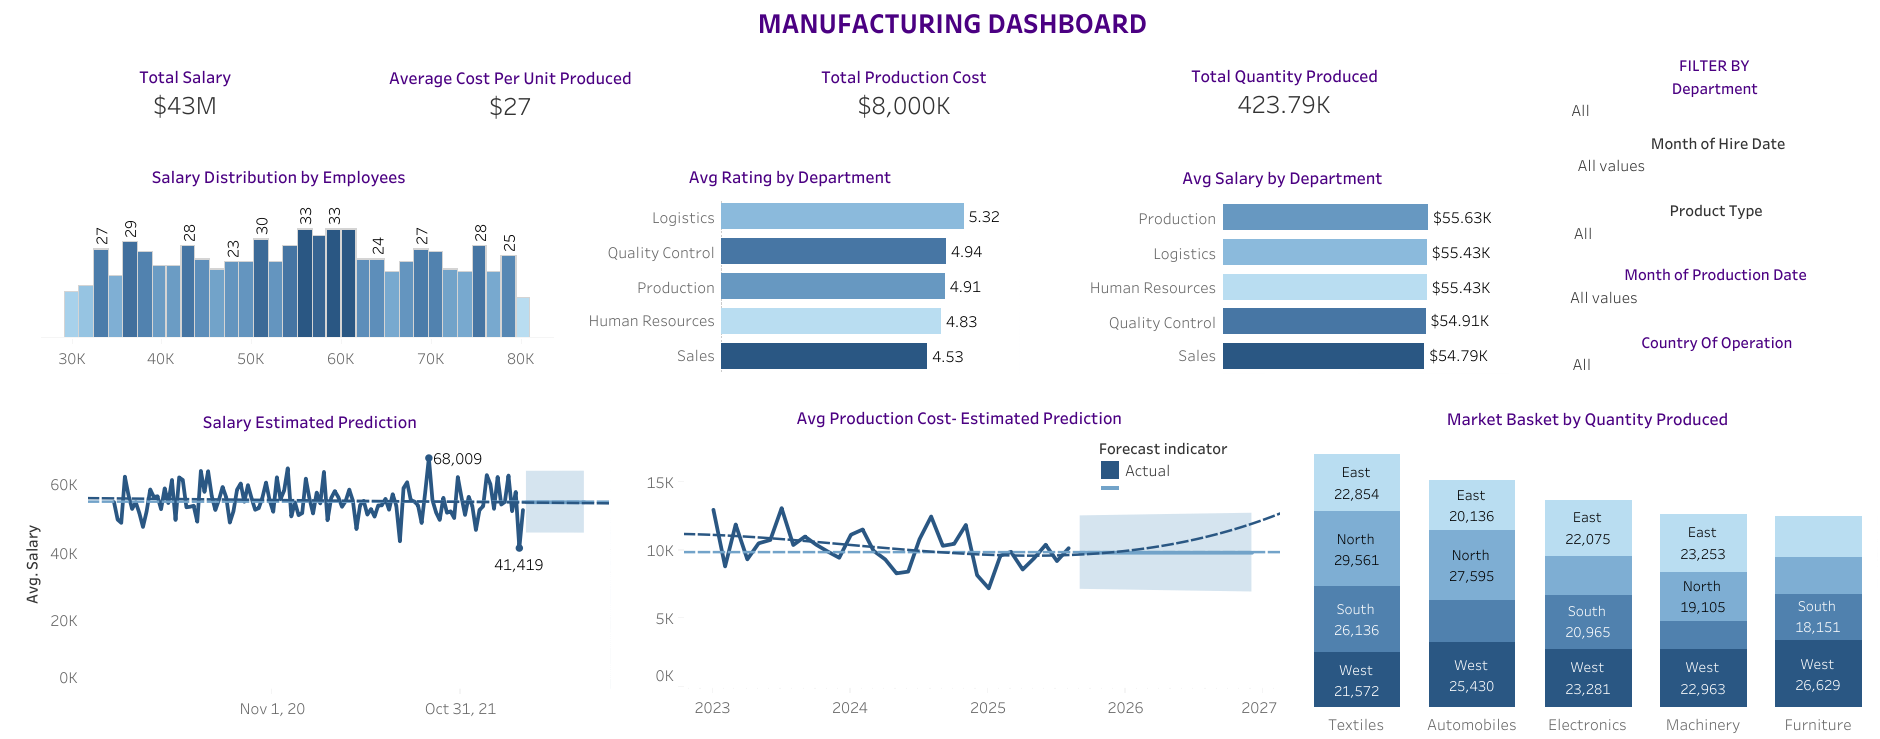

What the dashboard file says about the page in this screenshot:
{"tool":"tableau","page":{"name":"Manufacturing Dashboard","canvas":[1000,1000],"units":"permille","ordinal":0},"visuals":[{"type":"worksheet","title":"Total Quantity Produced","mark":"Automatic","box":[629.7,59.6,192,140.2]},{"type":"worksheet","title":"Salary KPI","mark":"Automatic","box":[65.2,60.4,100.8,131.7]},{"type":"worksheet","title":"Total Production Cost","mark":"Automatic","box":[427.9,60.4,162.3,149.3]},{"type":"worksheet","title":"Cost Per Unit","mark":"Automatic","box":[198.6,62.6,173.2,140.5]},{"type":"filter","title":"Avg Salary by Deparment","param":"[federated.0c11z7q1076qsk1ekkio71rvhc4t].[none:Department:nk]","box":[834,71.4,155.1,107.6]},{"type":"filter","title":"18. Market Basket Analysis","param":"[federated.0c11z7q1076qsk1ekkio71rvhc4t].[tmn:HireDate:qk]","box":[836.5,175.6,153.3,82.3]},{"type":"worksheet","title":"5. Bin Creation for Salary Analysis","mark":"Automatic","rows":["EmployeeID"],"cols":["Salary I (bin)"],"box":[1.8,210.8,292.9,296.4]},{"type":"worksheet","title":"9.Performance Rating Analysis","mark":"Automatic","rows":["Department"],"cols":["PerformanceRating_I"],"box":[298.2,211.9,243.1,292]},{"type":"worksheet","title":"Avg Salary by Deparment","mark":"Automatic","rows":["Department"],"cols":["Salary_I"],"box":[561.8,213,239.6,290.9]},{"type":"filter","title":"18. Market Basket Analysis","param":"[federated.0c11z7q1076qsk1ekkio71rvhc4t].[none:ProductType:nk]","box":[835.2,266.7,153.9,80.1]},{"type":"filter","title":"7.Trend Analysis of Production Cost","param":"[federated.0c11z7q1076qsk1ekkio71rvhc4t].[tmn:ProductionDate:qk]","box":[832.8,353.5,158.7,85.6]},{"type":"filter","title":"Avg Salary by Deparment","param":"[federated.0c11z7q1076qsk1ekkio71rvhc4t].[none:CountryOfOperation:nk]","box":[834.6,444.6,156.3,80.1]},{"type":"worksheet","title":"7.Trend Analysis of Production Cost","mark":"Automatic","rows":["ProductionCost_I"],"cols":["ProductionDate"],"box":[339.8,537.9,340.4,440.2]},{"type":"worksheet","title":"18. Market Basket Analysis","mark":"Automatic","rows":["QuantityProduced_I"],"cols":["ProductType"],"box":[690.1,538.2,307.5,454.8]},{"type":"worksheet","title":"16.Future Salary Trend","mark":"Automatic","rows":["Salary_I"],"cols":["HireDate"],"box":[6,541.7,317.6,438.3]},{"type":"legend","title":"7.Trend Analysis of Production Cost","param":"[federated.0c11z7q1076qsk1ekkio71rvhc4t].[none:Forecast Indicator:nk]","box":[583.4,586.4,84.6,75.2]}]}

Visuals, with their boxes on the dashboard's canvas, which has no fixed pixel size, in thousandths of its width and height (x1, y1, x2, y2). These are canvas units, not pixel positions in the 1880x739 screenshot, which may show the page scaled, cropped or inside an application window:
"Total Quantity Produced" worksheet: (left=630, top=60, right=822, bottom=200)
"Salary KPI" worksheet: (left=65, top=60, right=166, bottom=192)
"Total Production Cost" worksheet: (left=428, top=60, right=590, bottom=210)
"Cost Per Unit" worksheet: (left=199, top=63, right=372, bottom=203)
"Avg Salary by Deparment" filter: (left=834, top=71, right=989, bottom=179)
"18. Market Basket Analysis" filter: (left=836, top=176, right=990, bottom=258)
"5. Bin Creation for Salary Analysis" worksheet: (left=2, top=211, right=295, bottom=507)
"9.Performance Rating Analysis" worksheet: (left=298, top=212, right=541, bottom=504)
"Avg Salary by Deparment" worksheet: (left=562, top=213, right=801, bottom=504)
"18. Market Basket Analysis" filter: (left=835, top=267, right=989, bottom=347)
"7.Trend Analysis of Production Cost" filter: (left=833, top=354, right=992, bottom=439)
"Avg Salary by Deparment" filter: (left=835, top=445, right=991, bottom=525)
"7.Trend Analysis of Production Cost" worksheet: (left=340, top=538, right=680, bottom=978)
"18. Market Basket Analysis" worksheet: (left=690, top=538, right=998, bottom=993)
"16.Future Salary Trend" worksheet: (left=6, top=542, right=324, bottom=980)
"7.Trend Analysis of Production Cost" legend: (left=583, top=586, right=668, bottom=662)
